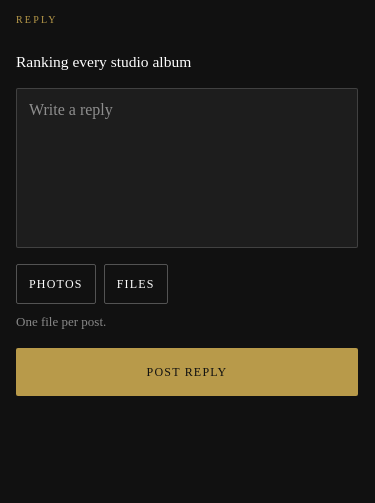
Test case: ComposerScreen › shows the API validation message when the attachment is rejected
Type "A reply from mobile" into the text box named "Reply body" at (187, 168), box [16, 88, 358, 248]
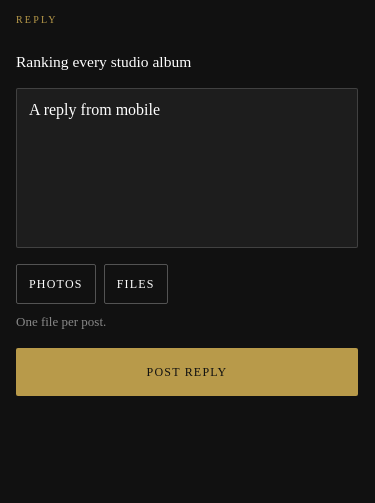
Click the button "Files" at (136, 284), box [104, 264, 168, 304]
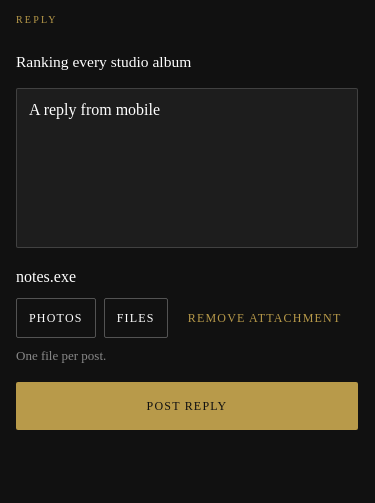
Expected: the text "notes.exe" is shown, [16, 268, 76, 285]
Click the button "Post reply" at (187, 406), box [16, 382, 358, 430]
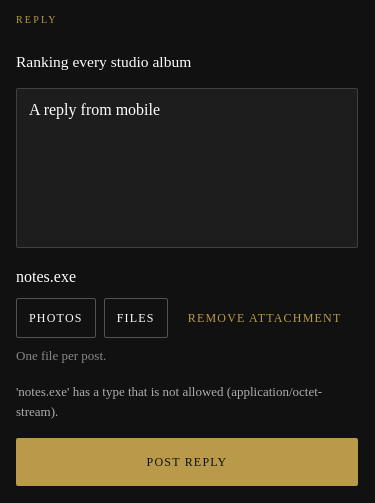
Expected: the text "'notes.exe' has a type that is not allowed (application/octet-stream)." is shown, [16, 382, 358, 422]
